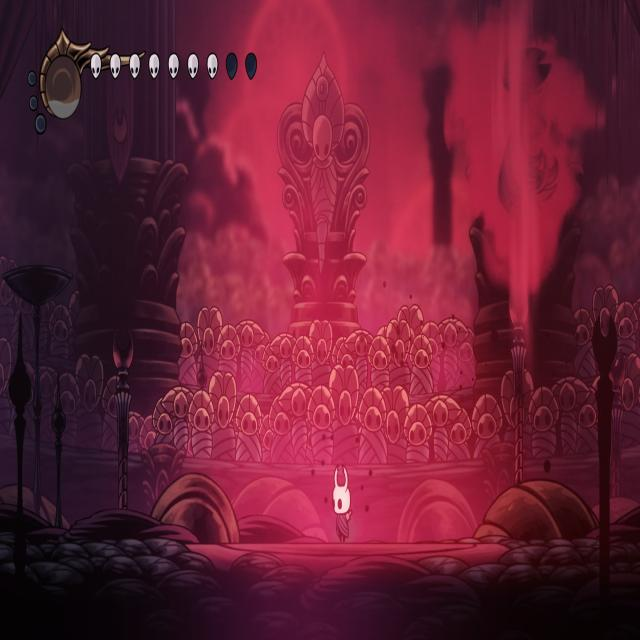Player: (332, 462, 356, 546)
